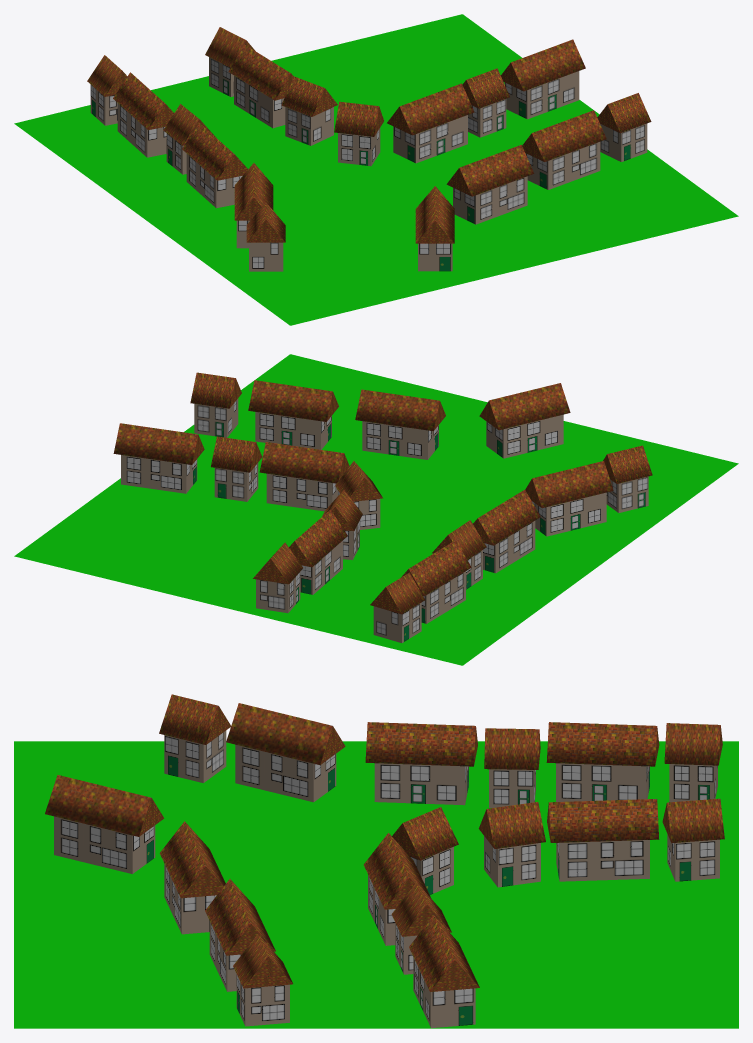
The picture shows the model from 3 angles, top to bottom: view 1: azimuth 30°, elevation 25°; view 2: azimuth 150°, elevation 25°; view 3: azimuth 270°, elevation 25°; orthographic projection. The views are drawn at different scales.
Visible parts, largest first — view 1: ground, box_merged_primitive1 (×2), box_merged_primitive0 (×2), house6_primitive1, house2_primitive1, house4_primitive1, house6_primitive0, house2_primitive0, house4_primitive0, house9_primitive1, house11_primitive1, house3_primitive1 (+20 smaller); view 2: ground, box_merged_primitive1 (×2), box_merged_primitive0 (×2), house2_primitive1, house4_primitive1, house6_primitive1, house3_primitive1, house15_primitive1, house3_primitive0, house2_primitive0, house4_primitive0, house15_primitive0 (+19 smaller); view 3: ground, box_merged_primitive1 (×2), house13_primitive1, house11_primitive1, house9_primitive1, house3_primitive1, house15_primitive1, house15_primitive0, house3_primitive0, house11_primitive0, house9_primitive0, house13_primitive0 (+21 smaller).
Boxes of the visible parts, x1,y1,x2,y2 form: ground: (14, 14, 738, 325); box_merged_primitive1 (×2): (522, 93, 651, 161); box_merged_primitive0 (×2): (525, 123, 647, 189); house6_primitive1: (387, 83, 474, 135); house2_primitive1: (446, 144, 534, 196); house4_primitive1: (501, 39, 585, 91); house6_primitive0: (393, 115, 467, 163); house2_primitive0: (453, 176, 527, 224); house4_primitive0: (504, 71, 579, 119); house9_primitive1: (228, 44, 293, 100); house11_primitive1: (182, 123, 248, 180); house3_primitive1: (415, 186, 454, 243); ground: (14, 354, 738, 665); box_merged_primitive1 (×2): (190, 372, 338, 421); box_merged_primitive0 (×2): (194, 398, 331, 449); house2_primitive1: (355, 389, 445, 431); house4_primitive1: (113, 423, 204, 464); house6_primitive1: (259, 442, 349, 483); house3_primitive1: (479, 383, 570, 430); house15_primitive1: (525, 461, 613, 508); house3_primitive0: (486, 414, 563, 458); house2_primitive0: (362, 421, 438, 459); house4_primitive0: (121, 455, 197, 493); house15_primitive0: (532, 492, 606, 536); ground: (14, 741, 738, 1028); box_merged_primitive1 (×2): (205, 879, 292, 988); house13_primitive1: (546, 722, 659, 766); house11_primitive1: (365, 722, 477, 766); house9_primitive1: (547, 799, 659, 842); house3_primitive1: (45, 775, 164, 836); house15_primitive1: (226, 703, 345, 764); house15_primitive0: (235, 744, 336, 802); house3_primitive0: (54, 816, 155, 873); house11_primitive0: (374, 763, 468, 805); house9_primitive0: (556, 840, 649, 881); house13_primitive0: (556, 763, 649, 801).
Bounding box in the file's own units: 15.19 × 1.71 × 16.
5 materials, 4 textured.
